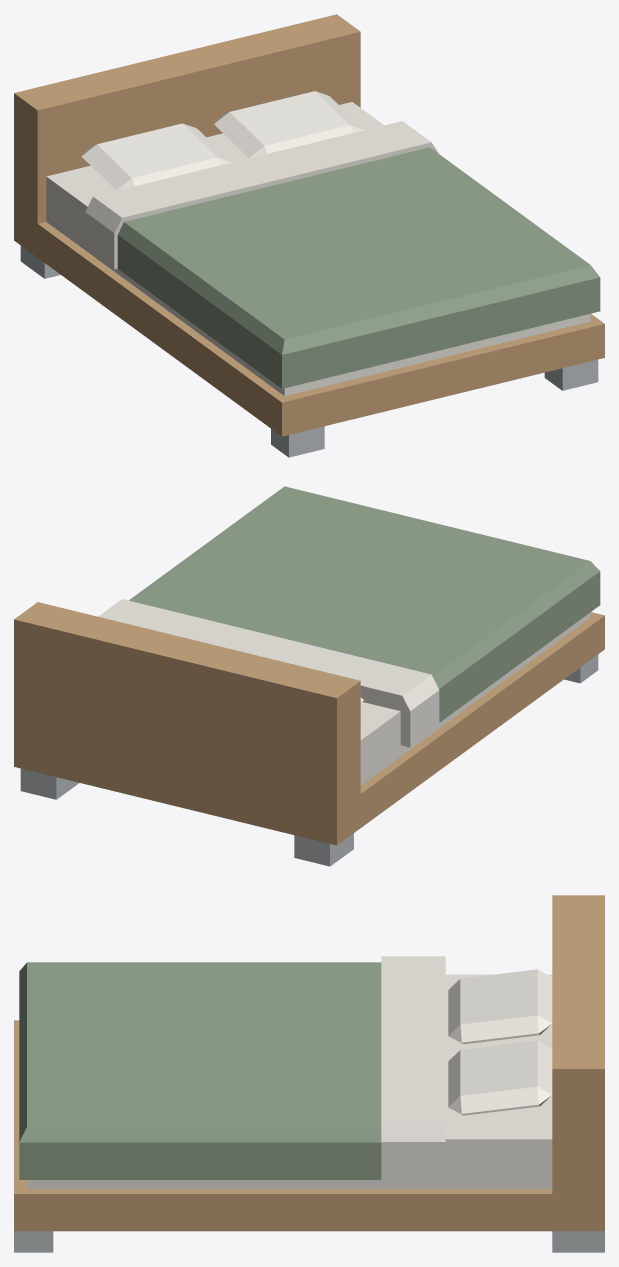
File: bed-double.glb
3 views of the same model, one above another, from view 1: azimuth 30°, elevation 25°; view 2: azimuth 150°, elevation 25°; view 3: azimuth 270°, elevation 25° (orthographic). The views are drawn at different scales.
Visible parts, largest first — view 1: bed-double; view 2: bed-double; view 3: bed-double.
Boxes of the visible parts, x1,y1,x2,y2 form: bed-double: (14, 14, 604, 457); bed-double: (14, 486, 604, 866); bed-double: (14, 895, 604, 1252).
Bounding box in the file's own units: 1.4 × 0.7 × 2.
